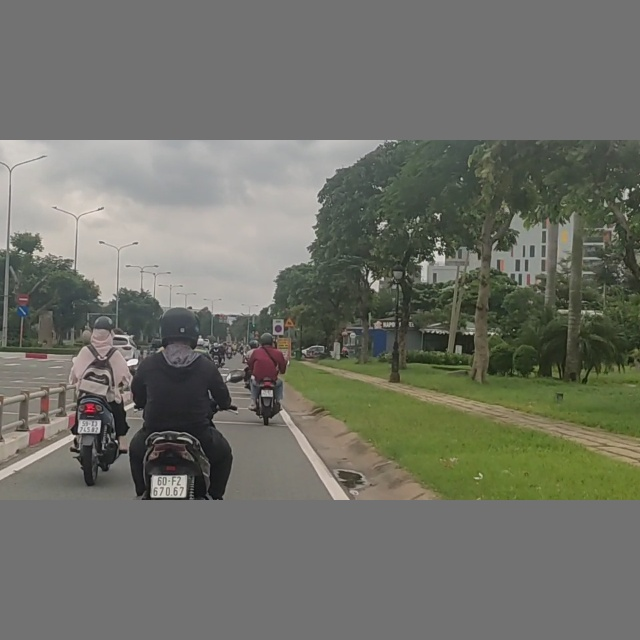P.102: (18, 293, 29, 304)
P.130: (274, 324, 283, 333)
R.302a: (17, 305, 29, 317)
W.225: (284, 316, 295, 328)
